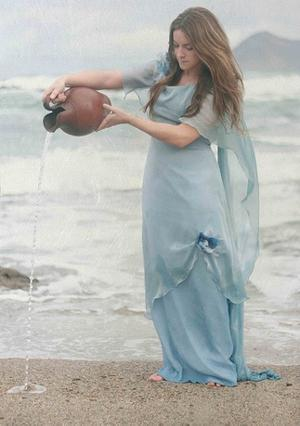person: (43, 7, 246, 389)
